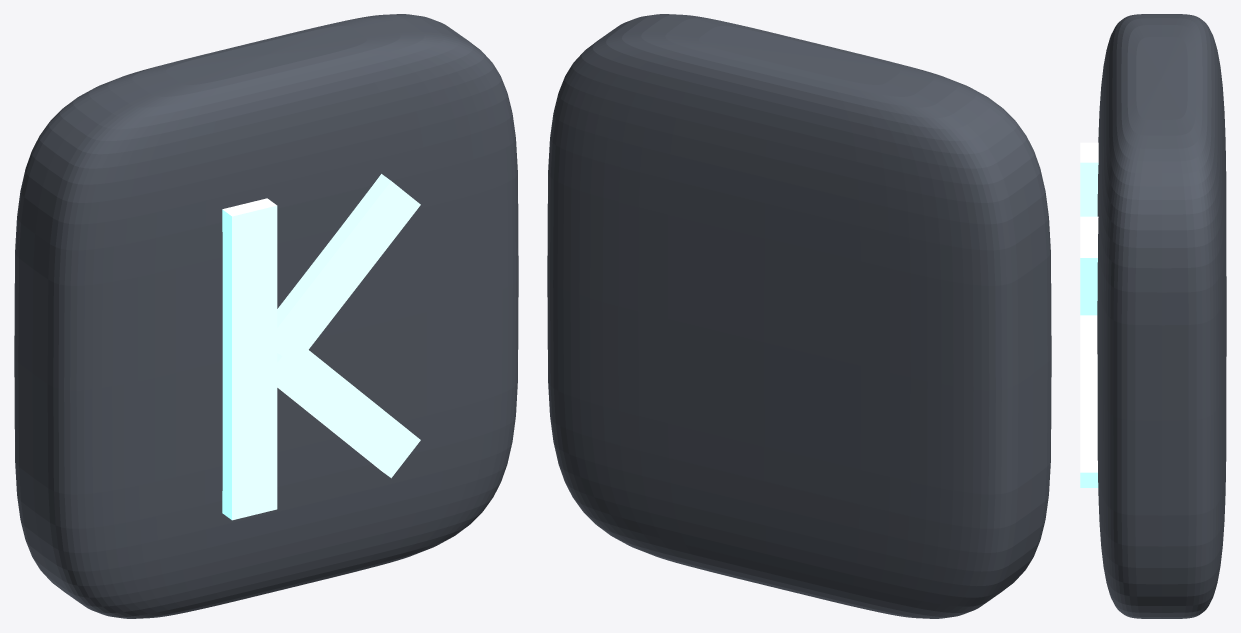
File: chest_badge.glb
3 renders of one model, left to right at view 1: azimuth 30°, elevation 25°; view 2: azimuth 150°, elevation 25°; view 3: azimuth 270°, elevation 25°, orthographic. The views are drawn at different scales.
Visible parts, largest first — view 1: KUMA_Canonical_Badge, KUMA_K_Vertical, KUMA_K_Upper, KUMA_K_Lower; view 2: KUMA_Canonical_Badge; view 3: KUMA_Canonical_Badge, KUMA_K_Lower, KUMA_K_Upper, KUMA_K_Vertical.
Boxes of the visible parts, left/top/right/bottom form: KUMA_Canonical_Badge: left=14, top=14, right=518, bottom=618; KUMA_K_Vertical: left=222, top=198, right=277, bottom=520; KUMA_K_Upper: left=266, top=174, right=420, bottom=366; KUMA_K_Lower: left=267, top=339, right=420, bottom=478; KUMA_Canonical_Badge: left=547, top=14, right=1051, bottom=618; KUMA_Canonical_Badge: left=1097, top=14, right=1226, bottom=618; KUMA_K_Lower: left=1080, top=315, right=1098, bottom=487; KUMA_K_Upper: left=1080, top=216, right=1098, bottom=315; KUMA_K_Vertical: left=1080, top=142, right=1098, bottom=216.
Size of the model in its own units: 29 by 31 by 8.6.
